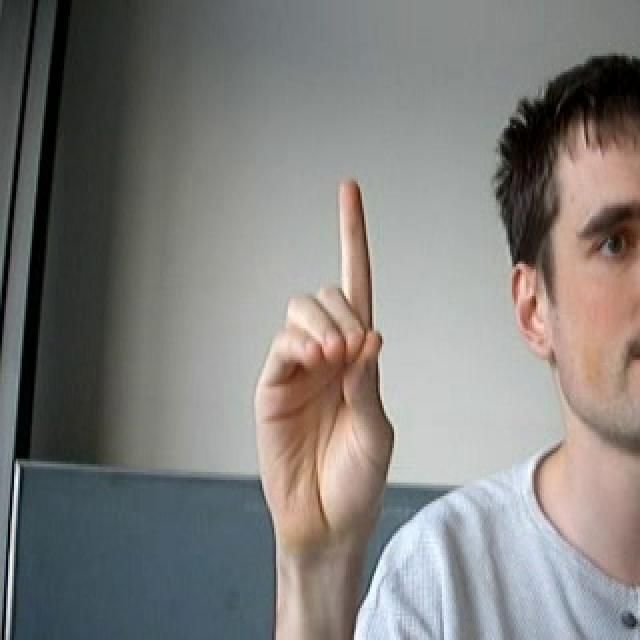D: (249, 172, 408, 567)
